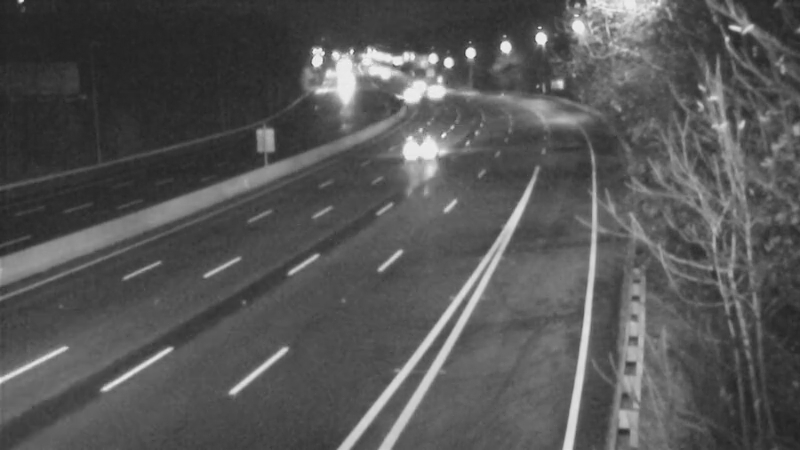vehicle: (360, 50, 410, 100), (392, 61, 442, 111), (409, 67, 459, 117), (383, 70, 433, 120), (404, 116, 454, 166), (320, 61, 370, 111)
